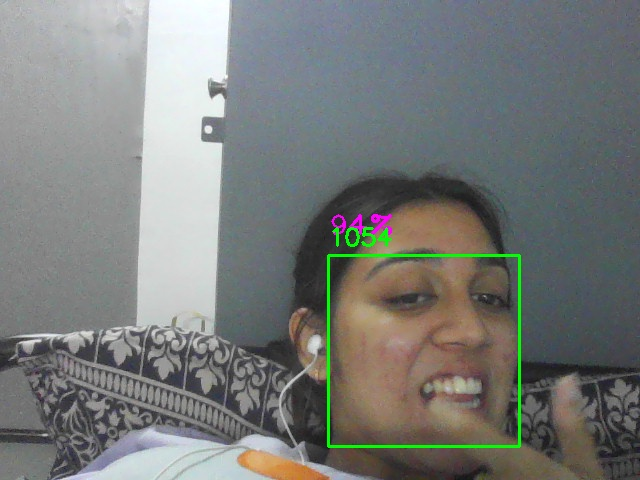real: (328, 255, 520, 447)
